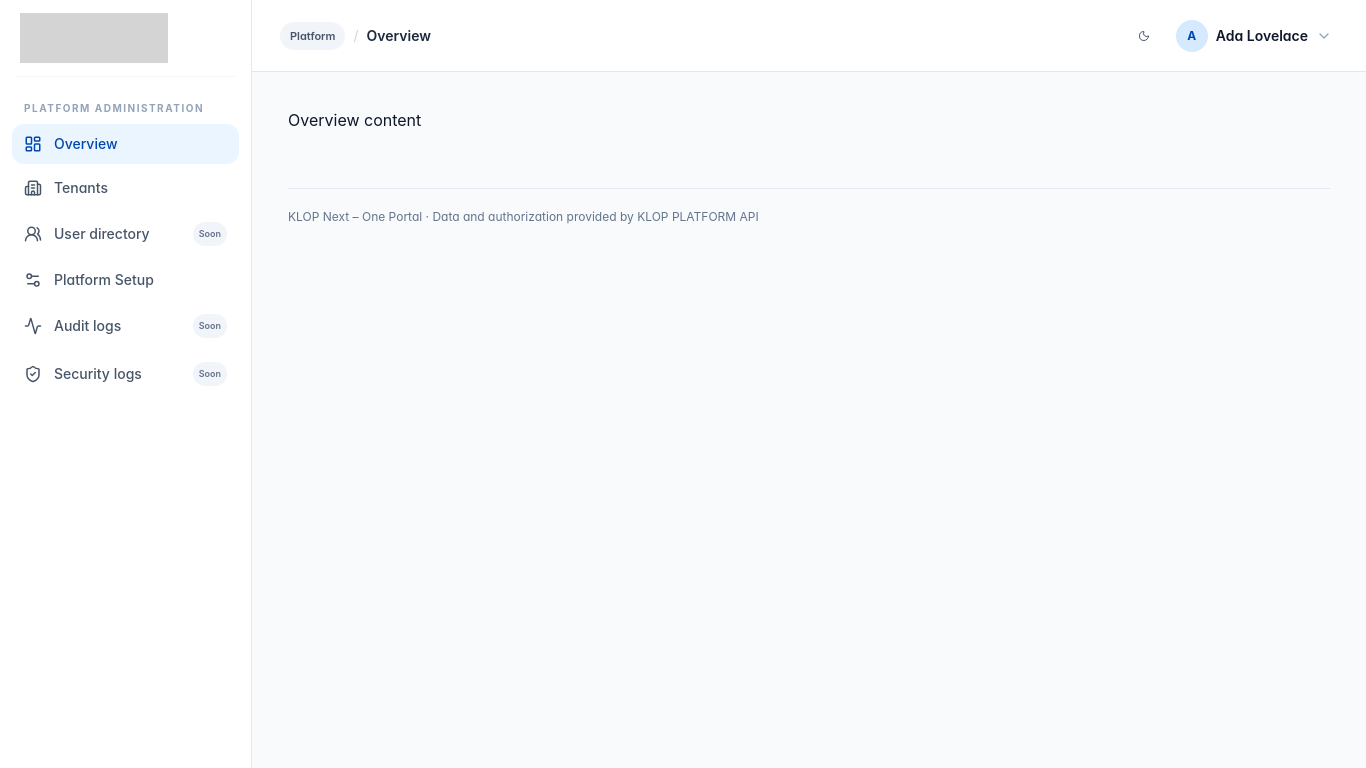
it: AppShell › preserves logout through the authenticated identity menu
Click the button "A Ada Lovelace" at (1254, 36), box x1=1170 y1=14 x2=1338 y2=58
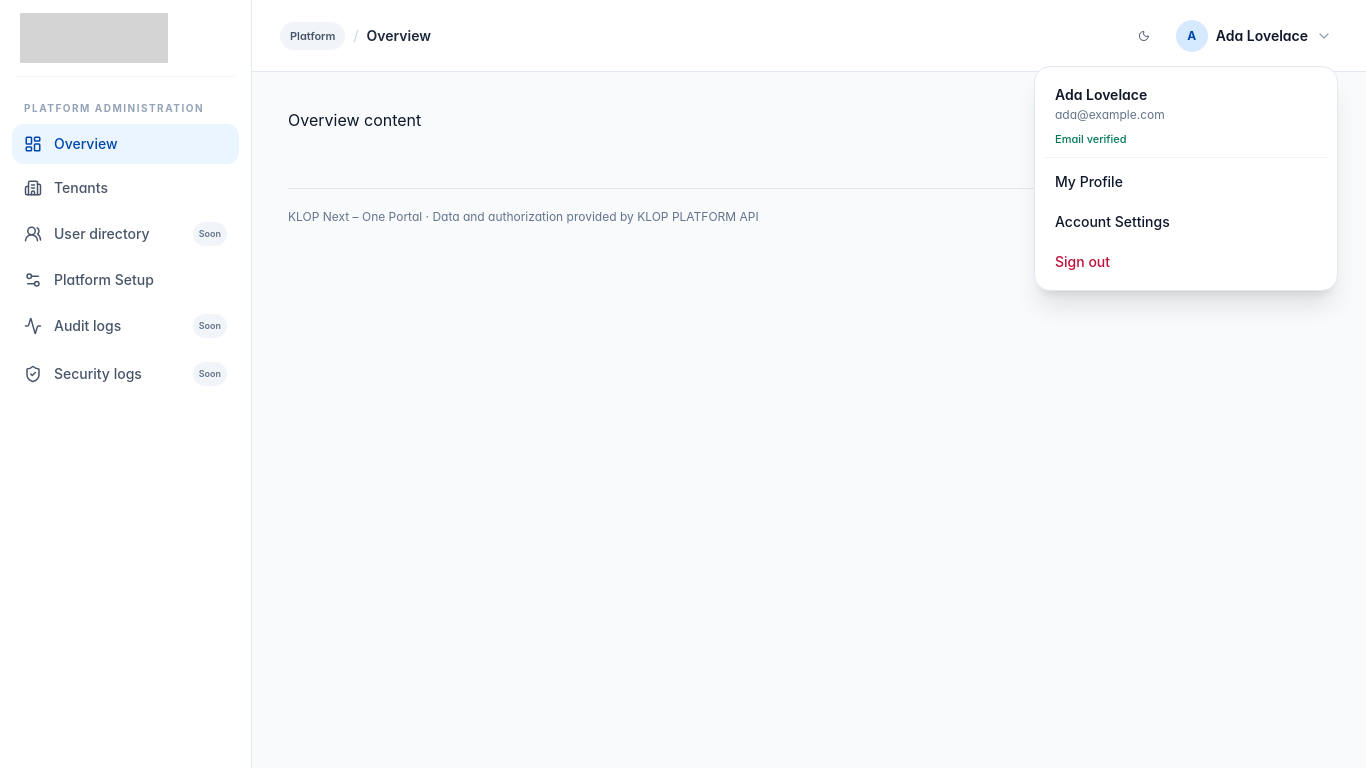
Check: the link "My Profile" is shown, box x1=1055 y1=173 x2=1123 y2=190
Click the button "Sign out" at (1083, 262), box x1=1043 y1=242 x2=1329 y2=282
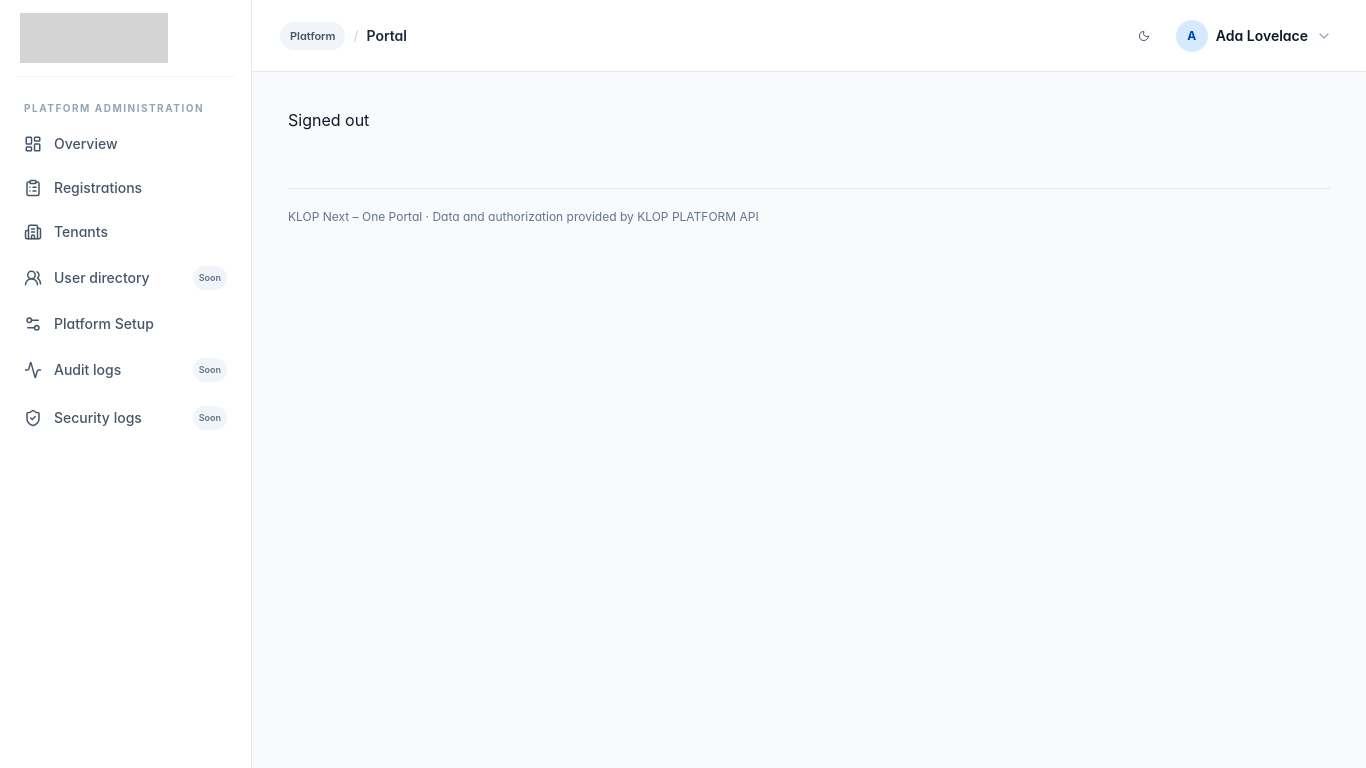
Check: the text "Signed out" is shown, box x1=288 y1=110 x2=369 y2=130
